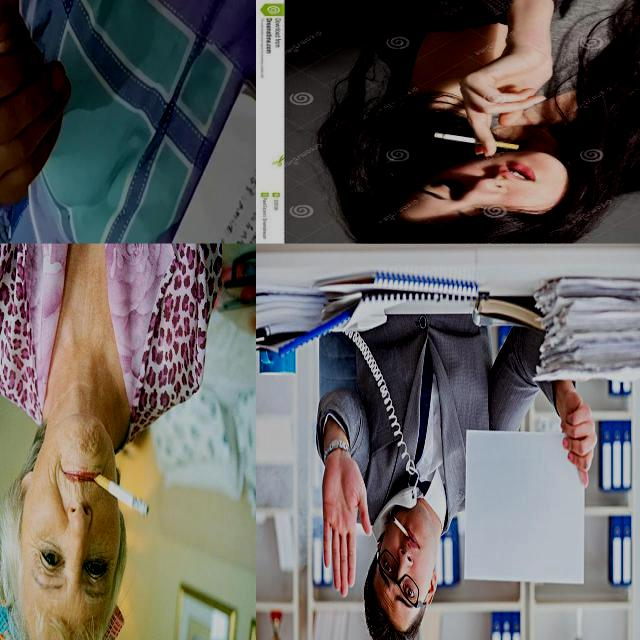smoke: (91, 468, 151, 522), (431, 131, 525, 152), (392, 516, 410, 538)
